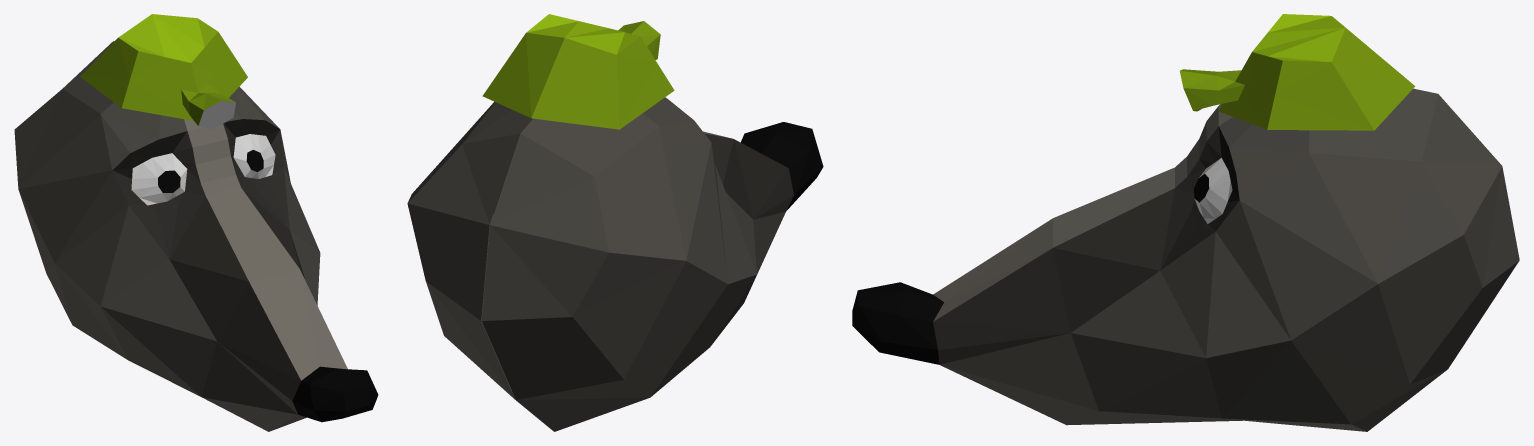
The model's file is mole_scaled_googly_color.obj.
The picture shows the model from 3 angles, left to right: view 1: azimuth 30°, elevation 25°; view 2: azimuth 150°, elevation 25°; view 3: azimuth 270°, elevation 25°; orthographic projection. The views are drawn at different scales.
Visible parts, largest first — view 1: Mole_Plane.002, Helmet_Plane.003; view 2: Mole_Plane.002, Helmet_Plane.003; view 3: Mole_Plane.002, Helmet_Plane.003.
Boxes of the visible parts, <box> form: Mole_Plane.002: <box>14,41,378,431</box>; Helmet_Plane.003: <box>80,14,247,128</box>; Mole_Plane.002: <box>407,97,823,431</box>; Helmet_Plane.003: <box>482,14,674,129</box>; Mole_Plane.002: <box>852,88,1519,431</box>; Helmet_Plane.003: <box>1180,14,1415,130</box>.
Size of the model in its own units: 136 by 183 by 274.
